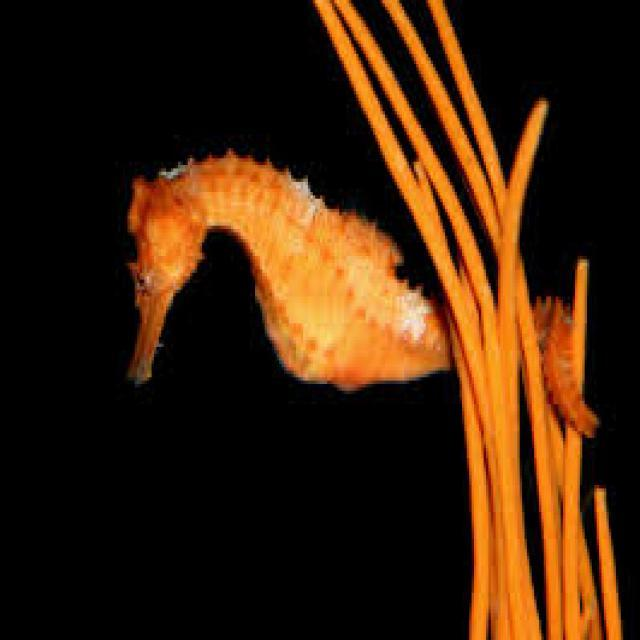SeaHorse: (122, 152, 454, 394), (539, 303, 599, 441)
